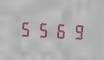five: (18, 18, 33, 39), (34, 19, 49, 39)
nine: (66, 20, 81, 41)
six: (50, 19, 65, 40)
